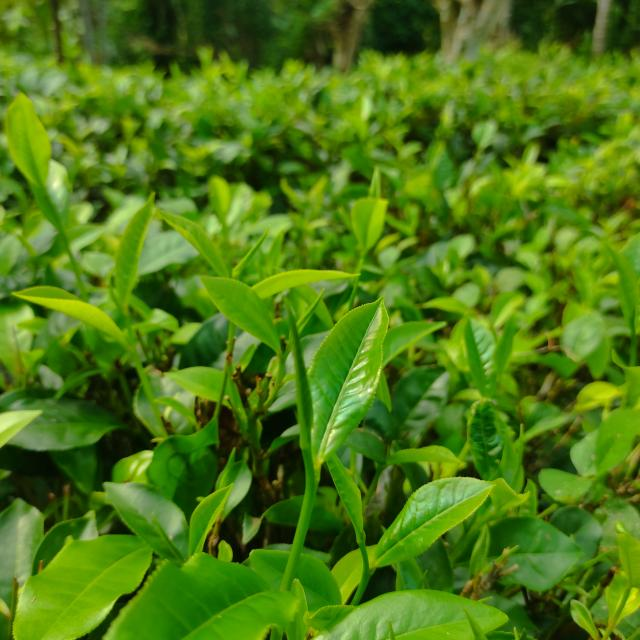unopened_leaf: (278, 289, 324, 483), (102, 266, 141, 345), (147, 498, 190, 564), (226, 224, 272, 285), (506, 413, 530, 492)
